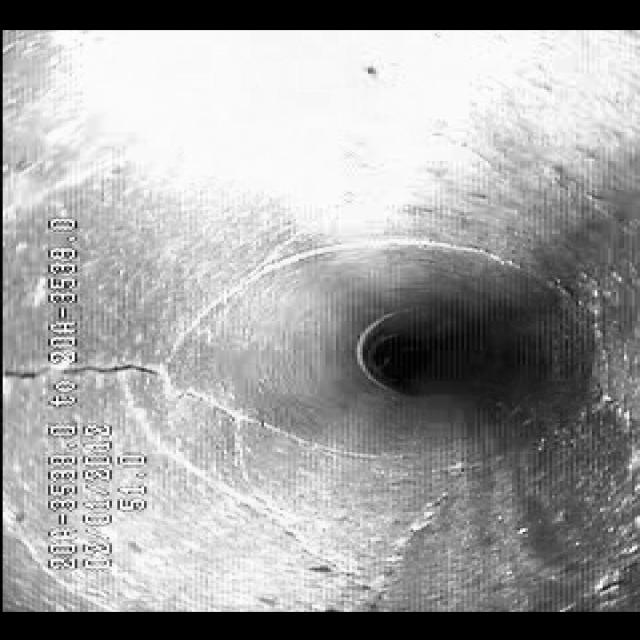Fracture: (168, 454, 446, 594), (110, 345, 230, 446)
